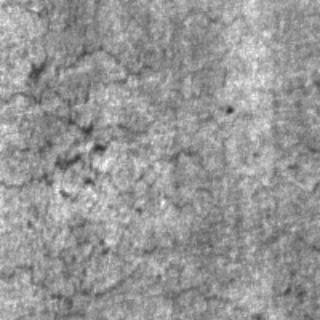crazing: (2, 37, 202, 193), (7, 224, 267, 316)
